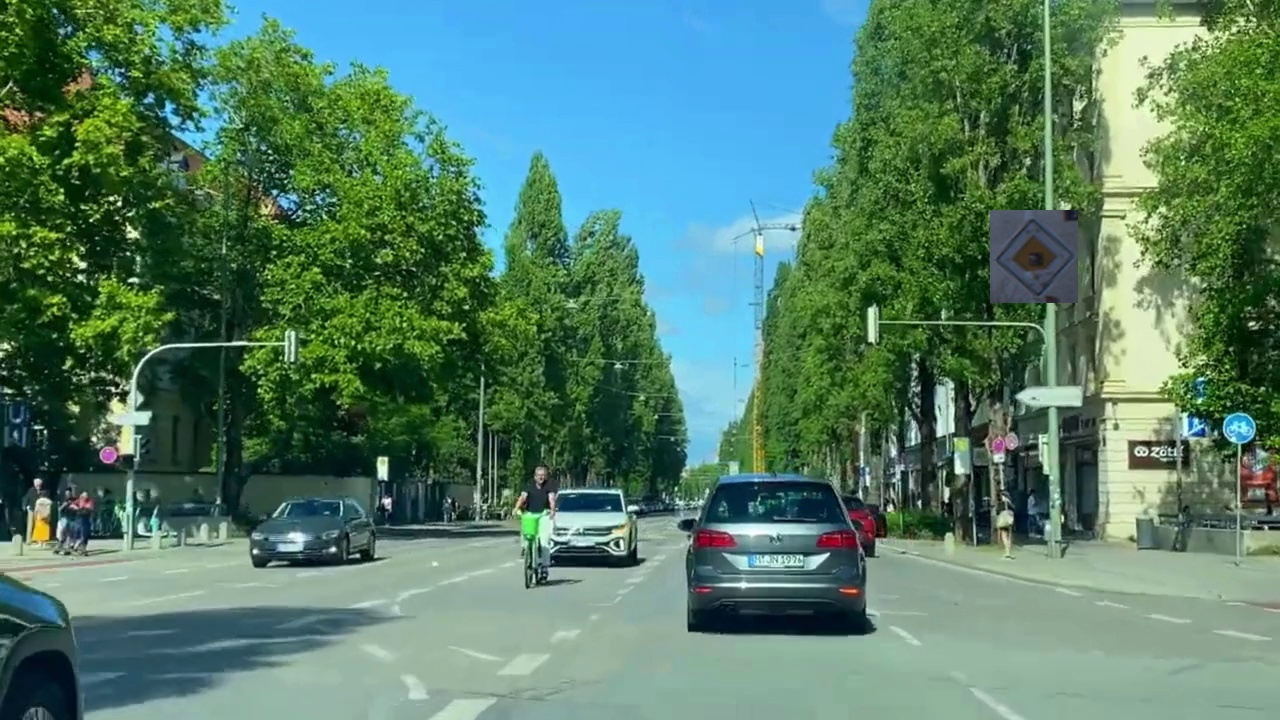Priority road: (990, 210, 1078, 303)
